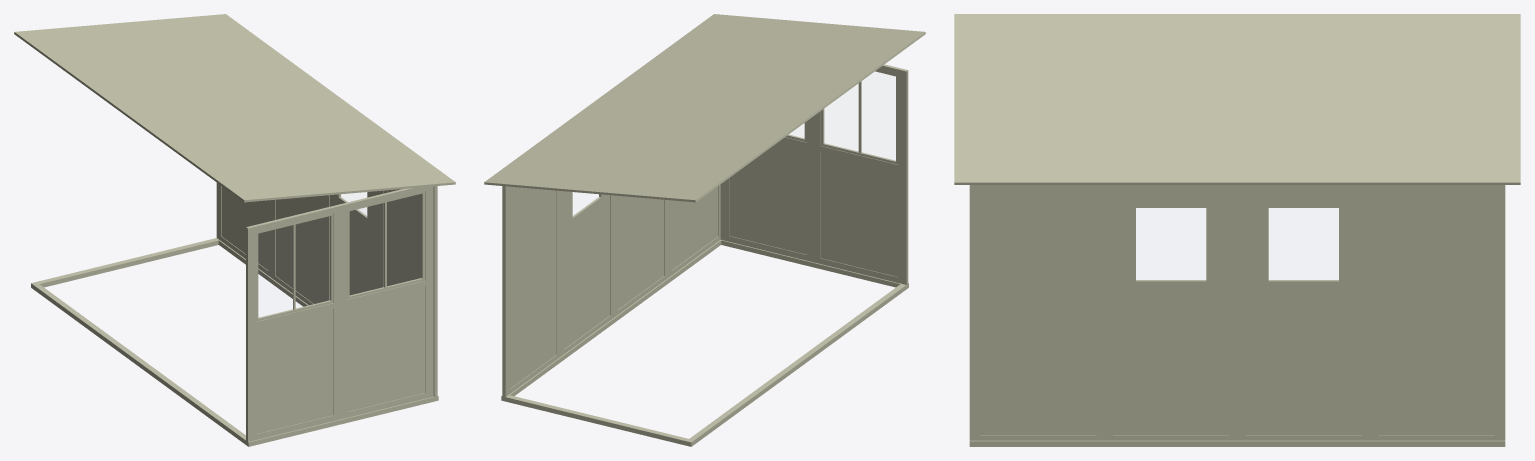
The model's file is Abri.gltf.
3 renders of one model, left to right at view 1: azimuth 30°, elevation 25°; view 2: azimuth 150°, elevation 25°; view 3: azimuth 270°, elevation 25°, orthographic. The views are drawn at different scales.
Parts seen in each view (by area): view 1: {C8978EA9-3E62-4e98-AAF7-C25FD40937F0}_Node, {7EA42B6C-718E-463b-BA34-B3C6AF210E79}_Node, {6B43A895-37B3-4b12-947A-BC2971F33C7D}_Node, {183564A6-9410-4cc6-A29F-1082EC3702B3}_Node, {646CB046-EB7A-4fdf-AC84-4523B4C04CFF}_Node, {24D35738-863B-4ef8-ABC8-3968AD3A541A}_Node, {ECADCC05-347A-4eca-8CD4-5C0A55391789}_Node, {596B9028-D03B-48e2-9D07-7703C25A8FC3}_Node, {247982E3-EB15-4ef5-979C-594F463786D5}_Node, {2A7CCB8C-6DF1-4806-93EB-E9D312B319A7}_Node, {6DB9D525-BBF6-4383-A1B5-4C195285C2F0}_Node, {50203B50-AB5F-43b4-8BF4-2BBCA53ABD84}_Node (+37 smaller); view 2: {C8978EA9-3E62-4e98-AAF7-C25FD40937F0}_Node, {7EA42B6C-718E-463b-BA34-B3C6AF210E79}_Node, {183564A6-9410-4cc6-A29F-1082EC3702B3}_Node, {369C9AAA-941D-4dc0-9783-12C3F3810B2C}_Node, {646CB046-EB7A-4fdf-AC84-4523B4C04CFF}_Node, {ECADCC05-347A-4eca-8CD4-5C0A55391789}_Node, {EF63BA2D-FA1C-46ae-A019-9E542B432436}_Node, {2A7CCB8C-6DF1-4806-93EB-E9D312B319A7}_Node, {1A5E73EF-29B4-4b6a-B3EC-8608346D011F}_Node, {785DAF38-9375-4553-89CB-9AAACC0E9863}_Node, {7E5E1DBE-B3B6-40fb-B4F0-B27716C3AD4D}_Node, {D199B4A1-65D5-465c-8042-B6267F77C0CE}_Node (+65 smaller); view 3: {C8978EA9-3E62-4e98-AAF7-C25FD40937F0}_Node, {369C9AAA-941D-4dc0-9783-12C3F3810B2C}_Node, {E1C3FDFA-B405-4b07-893D-153676B97F72}_Node, {364D713C-A1C3-414b-88B3-53BCED073FBA}_Node, {757DE16E-8FDF-4218-96DE-446438078F32}_Node, {22EB6CF7-06C0-43b2-8FC8-B97C7288C5F3}_Node, {BC14D652-66F8-491a-B5C6-9C3705A8994C}_Node, {2A33497F-5B08-4910-9E43-1042E5B3CC8F}_Node, {D2B0AA60-F17E-4370-83A7-503C151A62BC}_Node, {3E93A8C5-7545-473b-90F9-A160242EC9A0}_Node, {08C94A84-DB42-4919-A1A8-699154475883}_Node, {09D84AEC-4738-4d1b-AC55-DA9C02F2FBE3}_Node (+69 smaller).
Boxes of the visible parts, x1,y1,x2,y2 form: {C8978EA9-3E62-4e98-AAF7-C25FD40937F0}_Node: (14, 14, 455, 202); {7EA42B6C-718E-463b-BA34-B3C6AF210E79}_Node: (31, 282, 253, 446); {6B43A895-37B3-4b12-947A-BC2971F33C7D}_Node: (332, 205, 339, 420); {183564A6-9410-4cc6-A29F-1082EC3702B3}_Node: (37, 238, 218, 287); {646CB046-EB7A-4fdf-AC84-4523B4C04CFF}_Node: (249, 225, 256, 440); {24D35738-863B-4ef8-ABC8-3968AD3A541A}_Node: (341, 203, 347, 418); {ECADCC05-347A-4eca-8CD4-5C0A55391789}_Node: (246, 226, 251, 441); {596B9028-D03B-48e2-9D07-7703C25A8FC3}_Node: (425, 186, 430, 398); {247982E3-EB15-4ef5-979C-594F463786D5}_Node: (433, 186, 437, 396); {2A7CCB8C-6DF1-4806-93EB-E9D312B319A7}_Node: (253, 397, 433, 445); {6DB9D525-BBF6-4383-A1B5-4C195285C2F0}_Node: (401, 290, 409, 398); {50203B50-AB5F-43b4-8BF4-2BBCA53ABD84}_Node: (279, 320, 287, 428); {C8978EA9-3E62-4e98-AAF7-C25FD40937F0}_Node: (484, 14, 925, 202); {7EA42B6C-718E-463b-BA34-B3C6AF210E79}_Node: (686, 283, 908, 446); {183564A6-9410-4cc6-A29F-1082EC3702B3}_Node: (506, 395, 688, 445); {369C9AAA-941D-4dc0-9783-12C3F3810B2C}_Node: (501, 240, 721, 401); {646CB046-EB7A-4fdf-AC84-4523B4C04CFF}_Node: (898, 68, 904, 283); {ECADCC05-347A-4eca-8CD4-5C0A55391789}_Node: (903, 69, 908, 284); {EF63BA2D-FA1C-46ae-A019-9E542B432436}_Node: (502, 186, 507, 396); {2A7CCB8C-6DF1-4806-93EB-E9D312B319A7}_Node: (721, 240, 900, 287); {1A5E73EF-29B4-4b6a-B3EC-8608346D011F}_Node: (791, 144, 799, 252); {785DAF38-9375-4553-89CB-9AAACC0E9863}_Node: (859, 161, 867, 269); {7E5E1DBE-B3B6-40fb-B4F0-B27716C3AD4D}_Node: (882, 167, 890, 274); {D199B4A1-65D5-465c-8042-B6267F77C0CE}_Node: (828, 154, 836, 261); {C8978EA9-3E62-4e98-AAF7-C25FD40937F0}_Node: (954, 14, 1520, 184); {369C9AAA-941D-4dc0-9783-12C3F3810B2C}_Node: (969, 440, 1505, 446); {E1C3FDFA-B405-4b07-893D-153676B97F72}_Node: (1113, 329, 1228, 344); {364D713C-A1C3-414b-88B3-53BCED073FBA}_Node: (1113, 314, 1228, 329); {757DE16E-8FDF-4218-96DE-446438078F32}_Node: (1246, 389, 1361, 404); {22EB6CF7-06C0-43b2-8FC8-B97C7288C5F3}_Node: (1246, 299, 1361, 314); {BC14D652-66F8-491a-B5C6-9C3705A8994C}_Node: (1113, 284, 1228, 299); {2A33497F-5B08-4910-9E43-1042E5B3CC8F}_Node: (1113, 374, 1228, 389); {D2B0AA60-F17E-4370-83A7-503C151A62BC}_Node: (1246, 314, 1361, 329); {3E93A8C5-7545-473b-90F9-A160242EC9A0}_Node: (1246, 404, 1361, 419); {08C94A84-DB42-4919-A1A8-699154475883}_Node: (1113, 359, 1228, 374); {09D84AEC-4738-4d1b-AC55-DA9C02F2FBE3}_Node: (1246, 374, 1361, 389).
Bounding box in the file's own units: 1.97 × 2.26 × 3.71.
